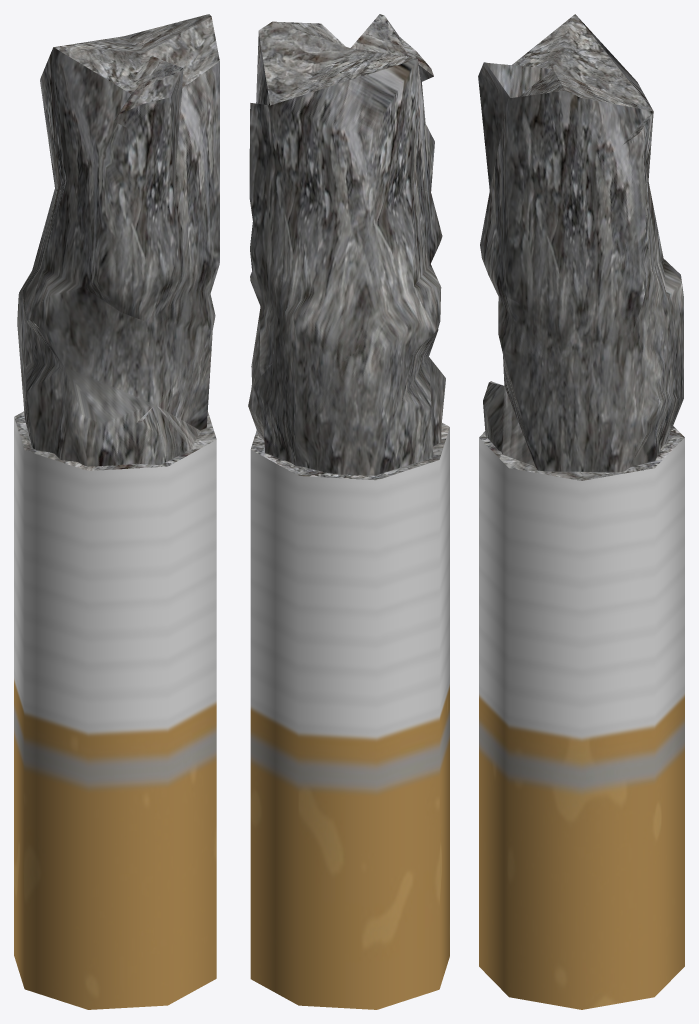
Rendered from cigarette_stump.fbx.
The picture shows the model from 3 angles, left to right: view 1: azimuth 30°, elevation 25°; view 2: azimuth 150°, elevation 25°; view 3: azimuth 270°, elevation 25°; orthographic projection.
Parts seen in each view (by area): view 1: cigarette_stump; view 2: cigarette_stump; view 3: cigarette_stump.
Boxes of the visible parts, box(x1,y1,x2,y2) form: cigarette_stump: box(14, 14, 219, 1009); cigarette_stump: box(248, 14, 449, 1009); cigarette_stump: box(478, 14, 684, 1009).
Bounding box in the file's own units: 0.8117 × 3.95 × 0.8033.
Materials: 1 (1 with a texture image).
